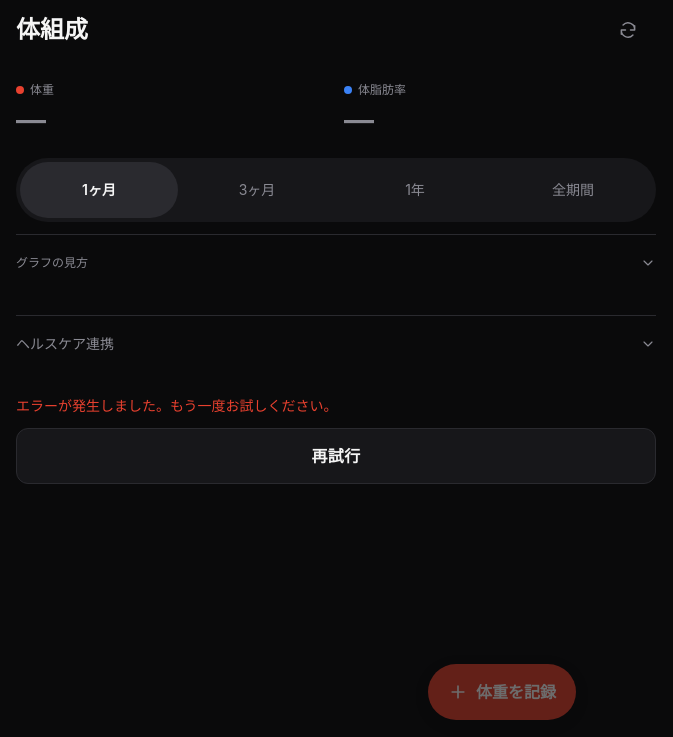
Test: BodyPage › keeps a retryable error on screen when loading fails
The width and height of the screenshot is (673, 737).
Expected: the message "エラーが発生しました。もう一度お試しください。" is shown, [16,397,338,414]
Expected: the text "この期間の記録はありません" is not shown
Click the button "再試行": (336, 456) [16,428,656,484]
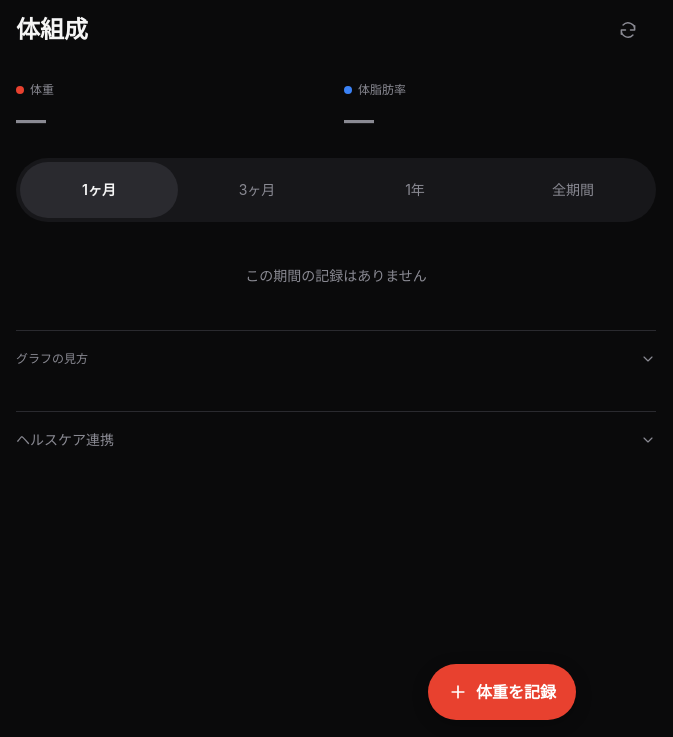
Result: the text "この期間の記録はありません" is shown at [245,267,427,284]
Result: the message "エラーが発生しました。もう一度お試しください。" is gone
